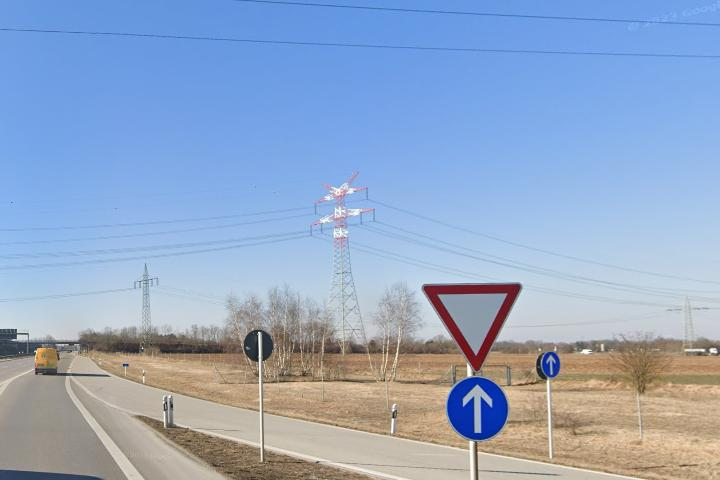traffic_sign: (421, 282, 524, 372), (445, 376, 509, 442), (540, 352, 561, 377)
vehicle: (30, 345, 62, 381)
